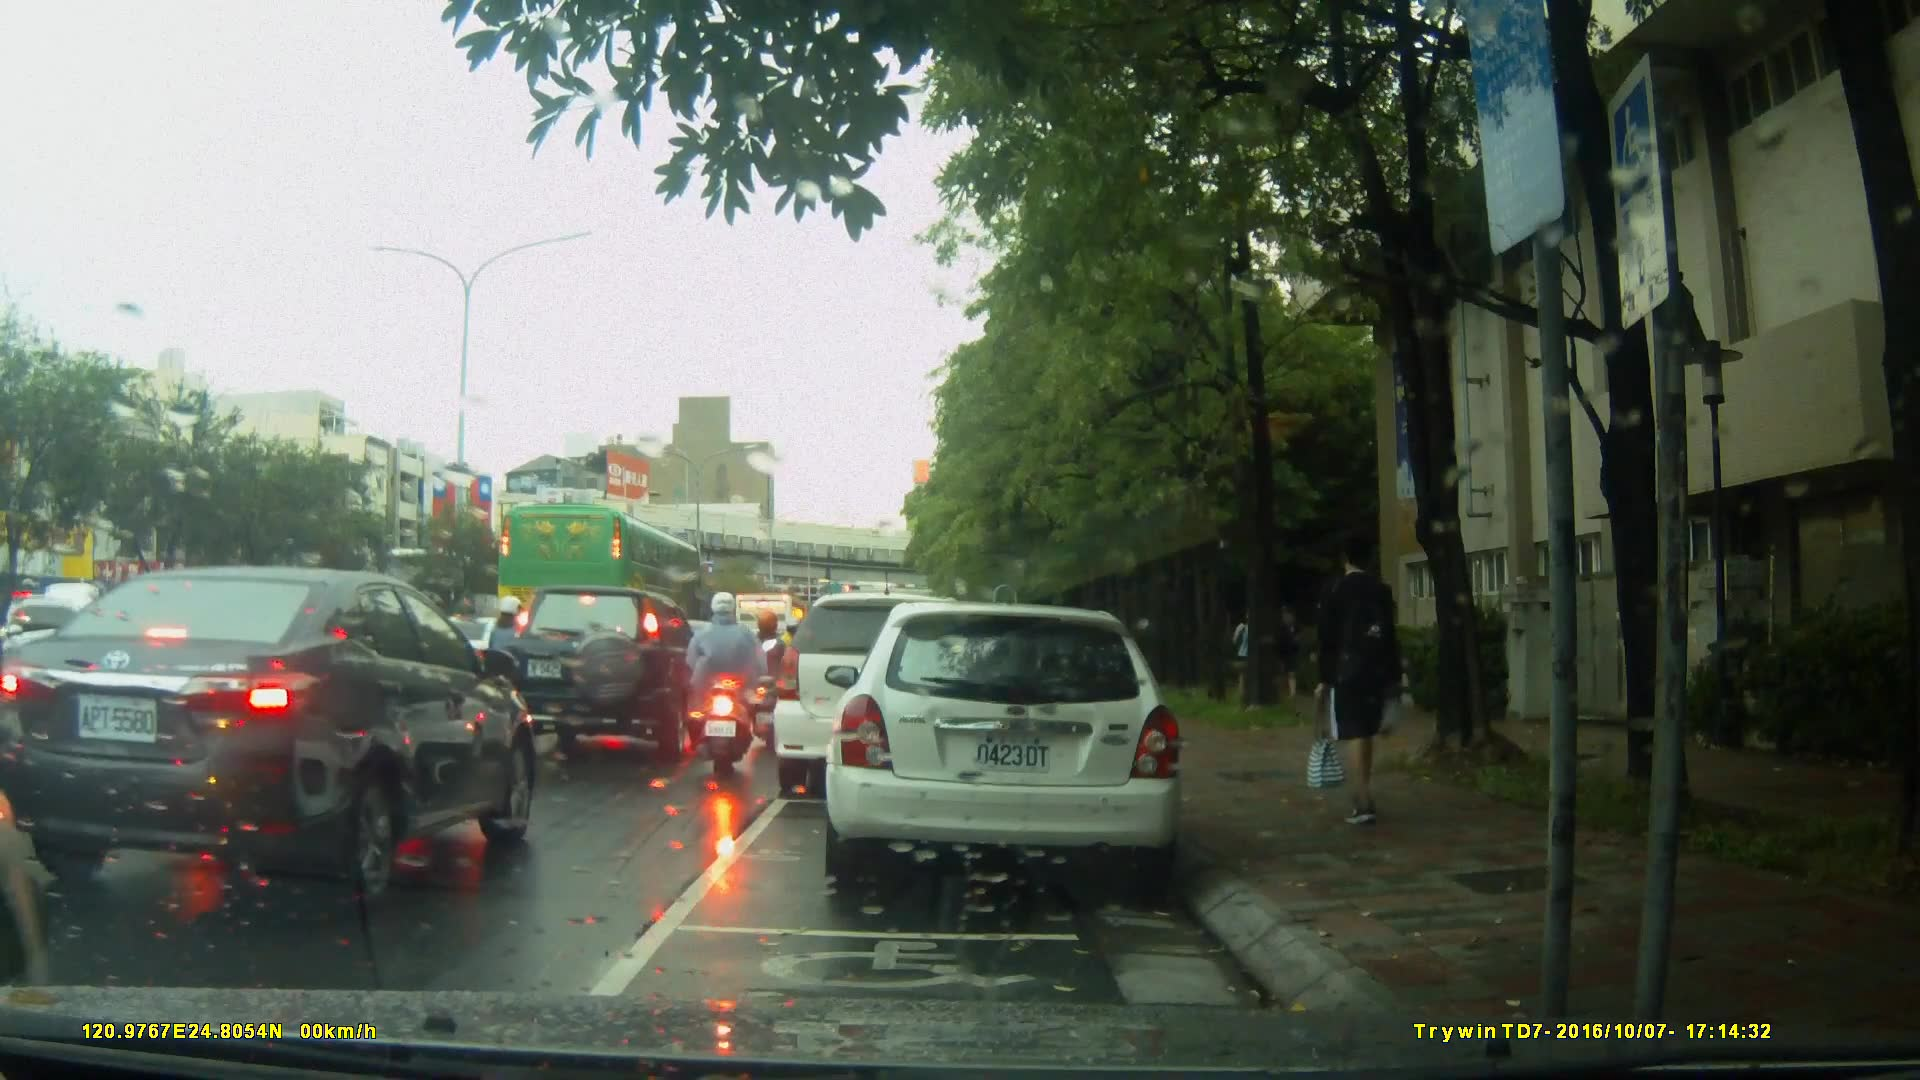pedestrian: (1297, 539, 1417, 838)
rider: (694, 592, 779, 775), (470, 591, 547, 710), (748, 608, 801, 743), (780, 612, 813, 705)
vehicle: (4, 564, 539, 915), (831, 592, 1196, 897), (770, 592, 999, 799), (501, 581, 709, 760), (495, 502, 707, 656)
